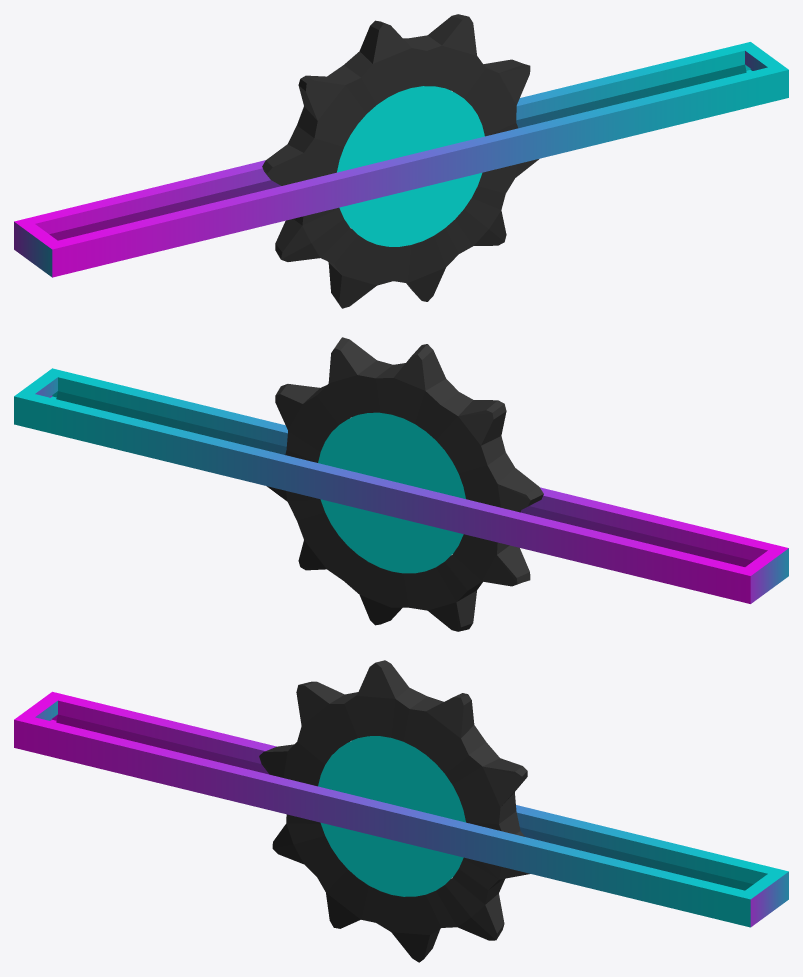
Rendered from EFT0310013.fbx.
The picture shows the model from 3 angles, top to bottom: view 1: azimuth 30°, elevation 25°; view 2: azimuth 150°, elevation 25°; view 3: azimuth 330°, elevation 25°; orthographic projection.
Visible parts, largest first — view 1: smEFT0310013; view 2: smEFT0310013; view 3: smEFT0310013.
Boxes of the visible parts, box(x1,y1,x2,y2) form: smEFT0310013: box(14, 14, 788, 308); smEFT0310013: box(14, 337, 788, 631); smEFT0310013: box(14, 660, 788, 962).
Size of the model in its own units: 149 by 55.97 by 13.42.
Materials: 1 (1 with a texture image).
